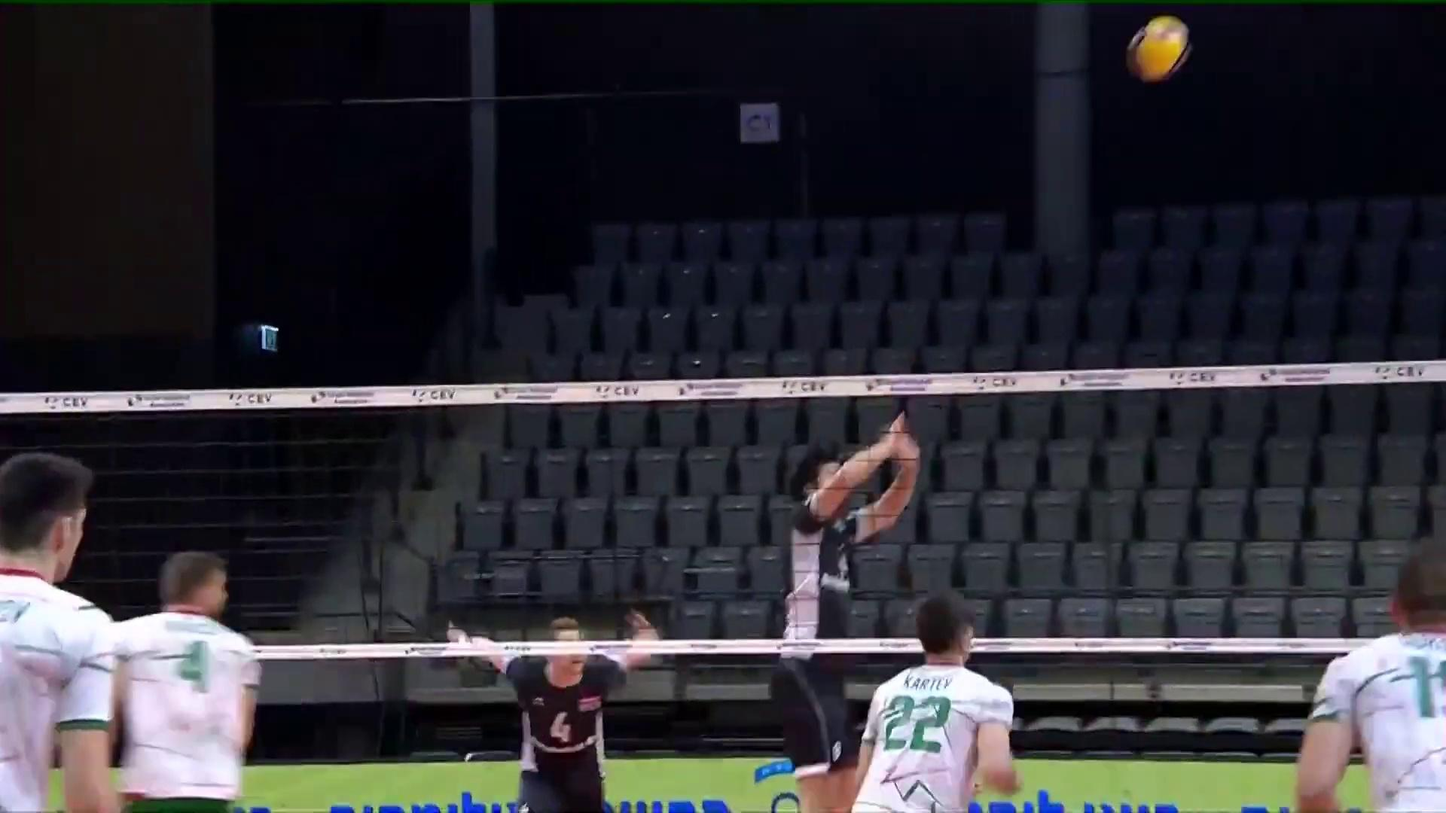ball: (1120, 10, 1200, 90)
